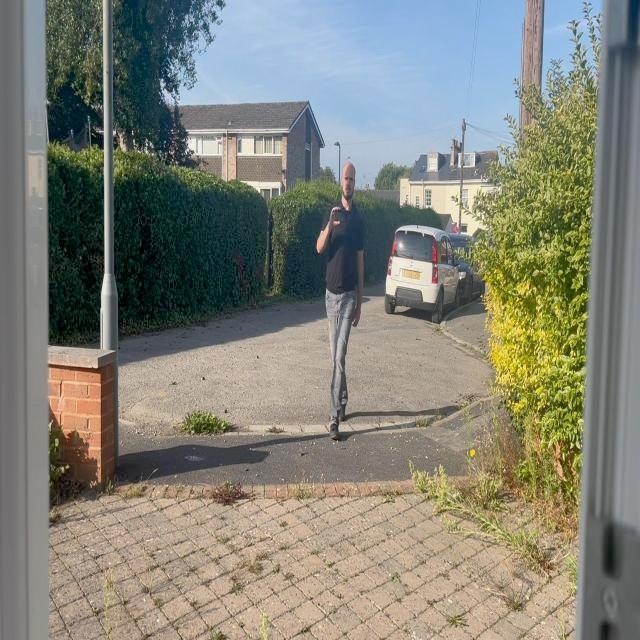lens: (345, 217, 347, 222)
phone: (334, 209, 347, 223)
